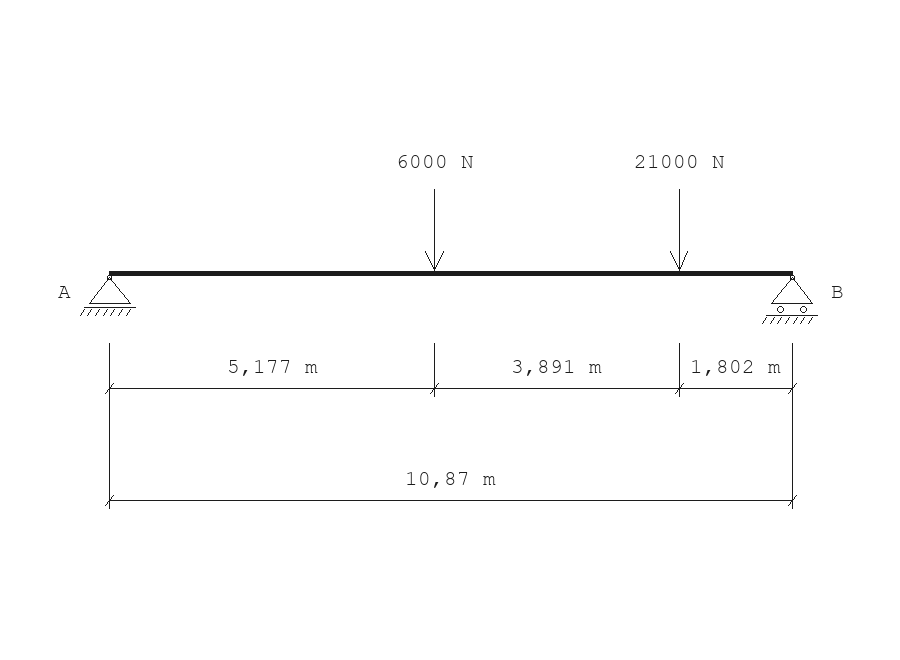pin_support: (80, 275, 136, 316)
point_load: (425, 189, 444, 271), (670, 189, 688, 271)
roller_support: (762, 275, 818, 324)
